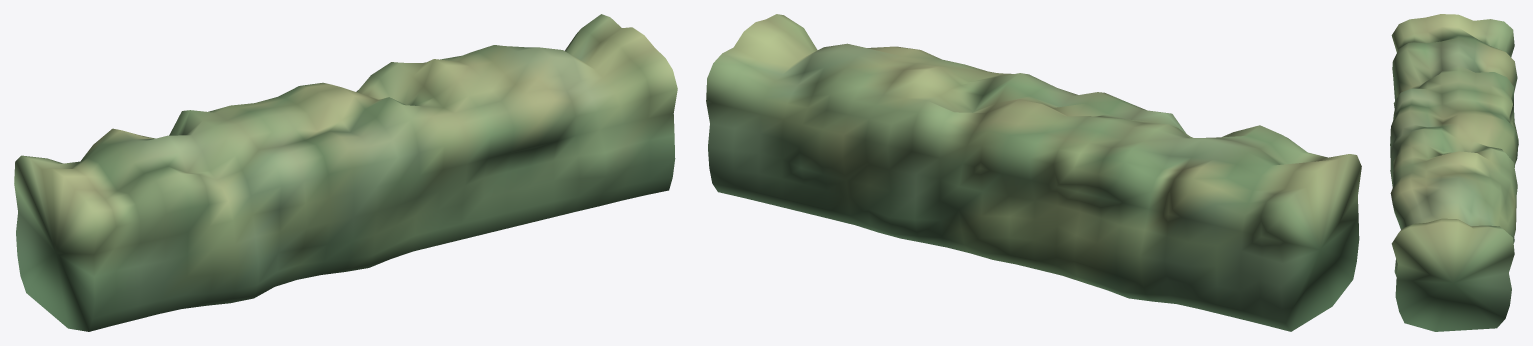
The model's file is hedge_2x.glb.
3 renders of one model, left to right at view 1: azimuth 30°, elevation 25°; view 2: azimuth 150°, elevation 25°; view 3: azimuth 270°, elevation 25°, orthographic. The views are drawn at different scales.
Parts seen in each view (by area): view 1: hedge_2x; view 2: hedge_2x; view 3: hedge_2x.
Part boxes in pixels (x1,y1,x2,y2): hedge_2x: [14, 14, 677, 331]; hedge_2x: [706, 14, 1361, 331]; hedge_2x: [1390, 14, 1518, 331].
Bounding box in the file's own units: 32 × 8.17 × 8.36.
